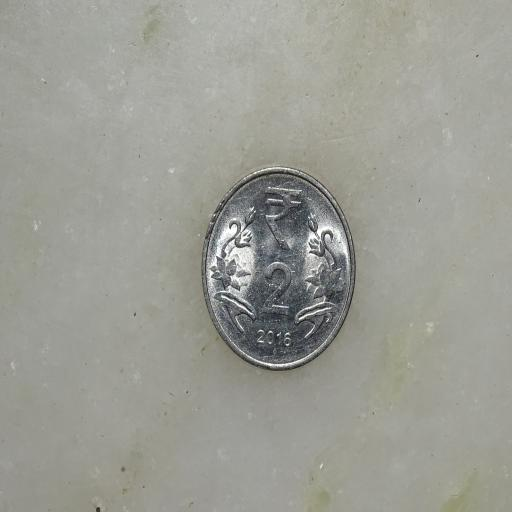rupee2: (200, 168, 354, 369)
